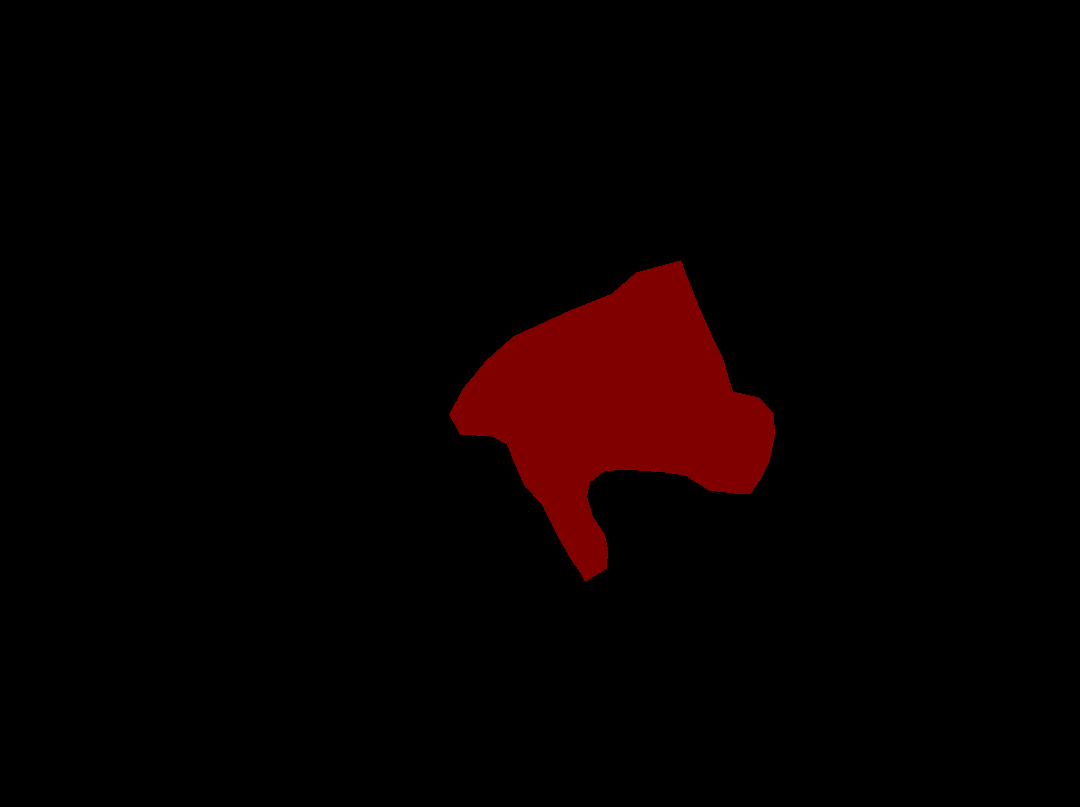fire: (449, 260, 774, 581)
